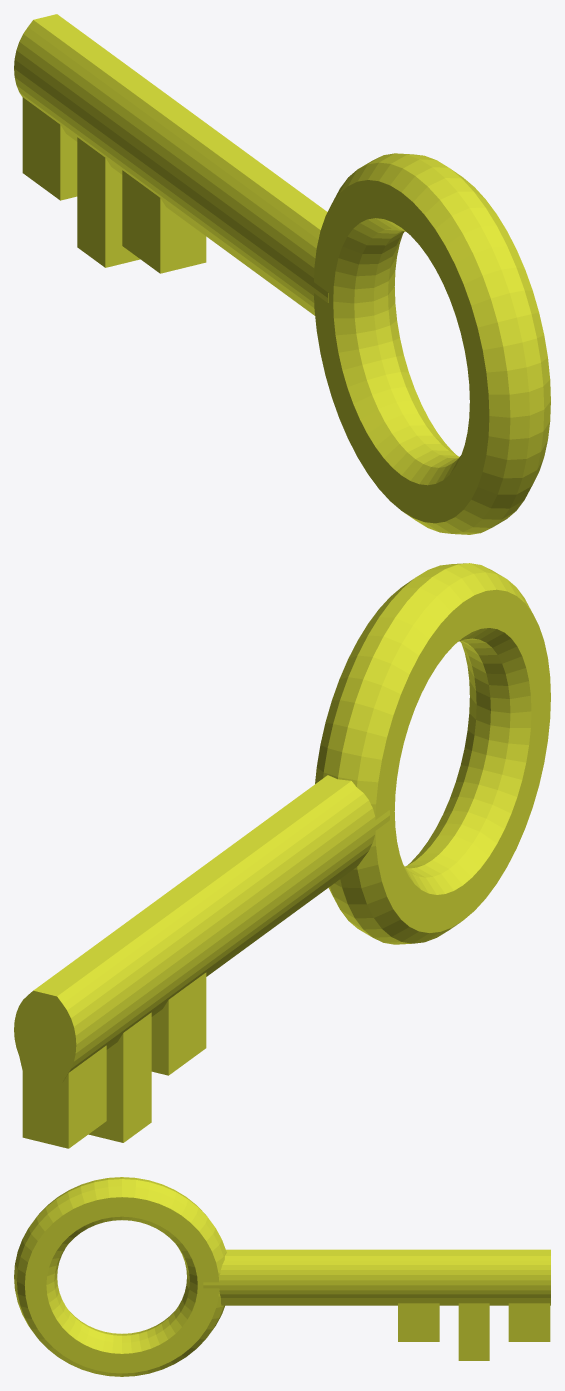
The model's file is sleutel.fbx.
The picture shows the model from 3 angles, top to bottom: view 1: azimuth 30°, elevation 25°; view 2: azimuth 150°, elevation 25°; view 3: azimuth 270°, elevation 25°; orthographic projection. The views are drawn at different scales.
Visible parts, largest first — view 1: Torus; view 2: Torus; view 3: Torus.
Part boxes in pixels (<box>): Torus: <box>14,14,550,534</box>; Torus: <box>14,563,550,1148</box>; Torus: <box>14,1177,550,1376</box>.
Bounding box in the file's own units: 12.05 × 65.38 × 162.
